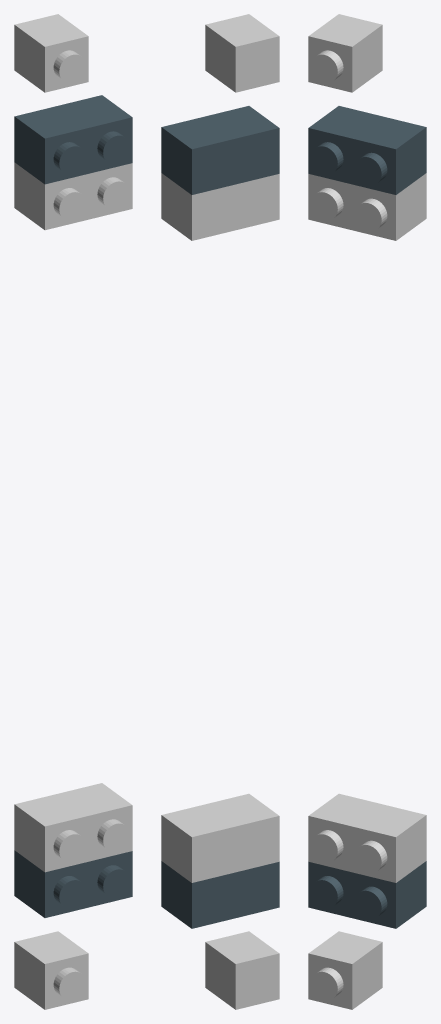
File: current.glb
3 views of the same model, side by side, from view 1: azimuth 30°, elevation 25°; view 2: azimuth 210°, elevation 25°; view 3: azimuth 330°, elevation 25° (orthographic).
Parts seen in each view (by area): view 1: world; view 2: world; view 3: world.
Boxes of the visible parts, x1=… form: world: x1=14, y1=14, x2=132, y2=1009; world: x1=161, y1=14, x2=279, y2=1009; world: x1=308, y1=14, x2=426, y2=1009.
Size of the model in its own units: 16 by 168 by 11.4.
